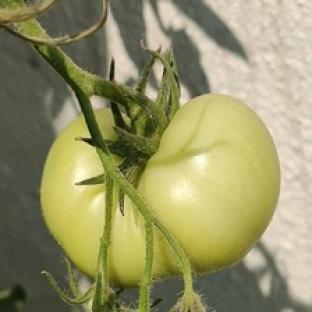Tomato: (138, 95, 279, 272)
